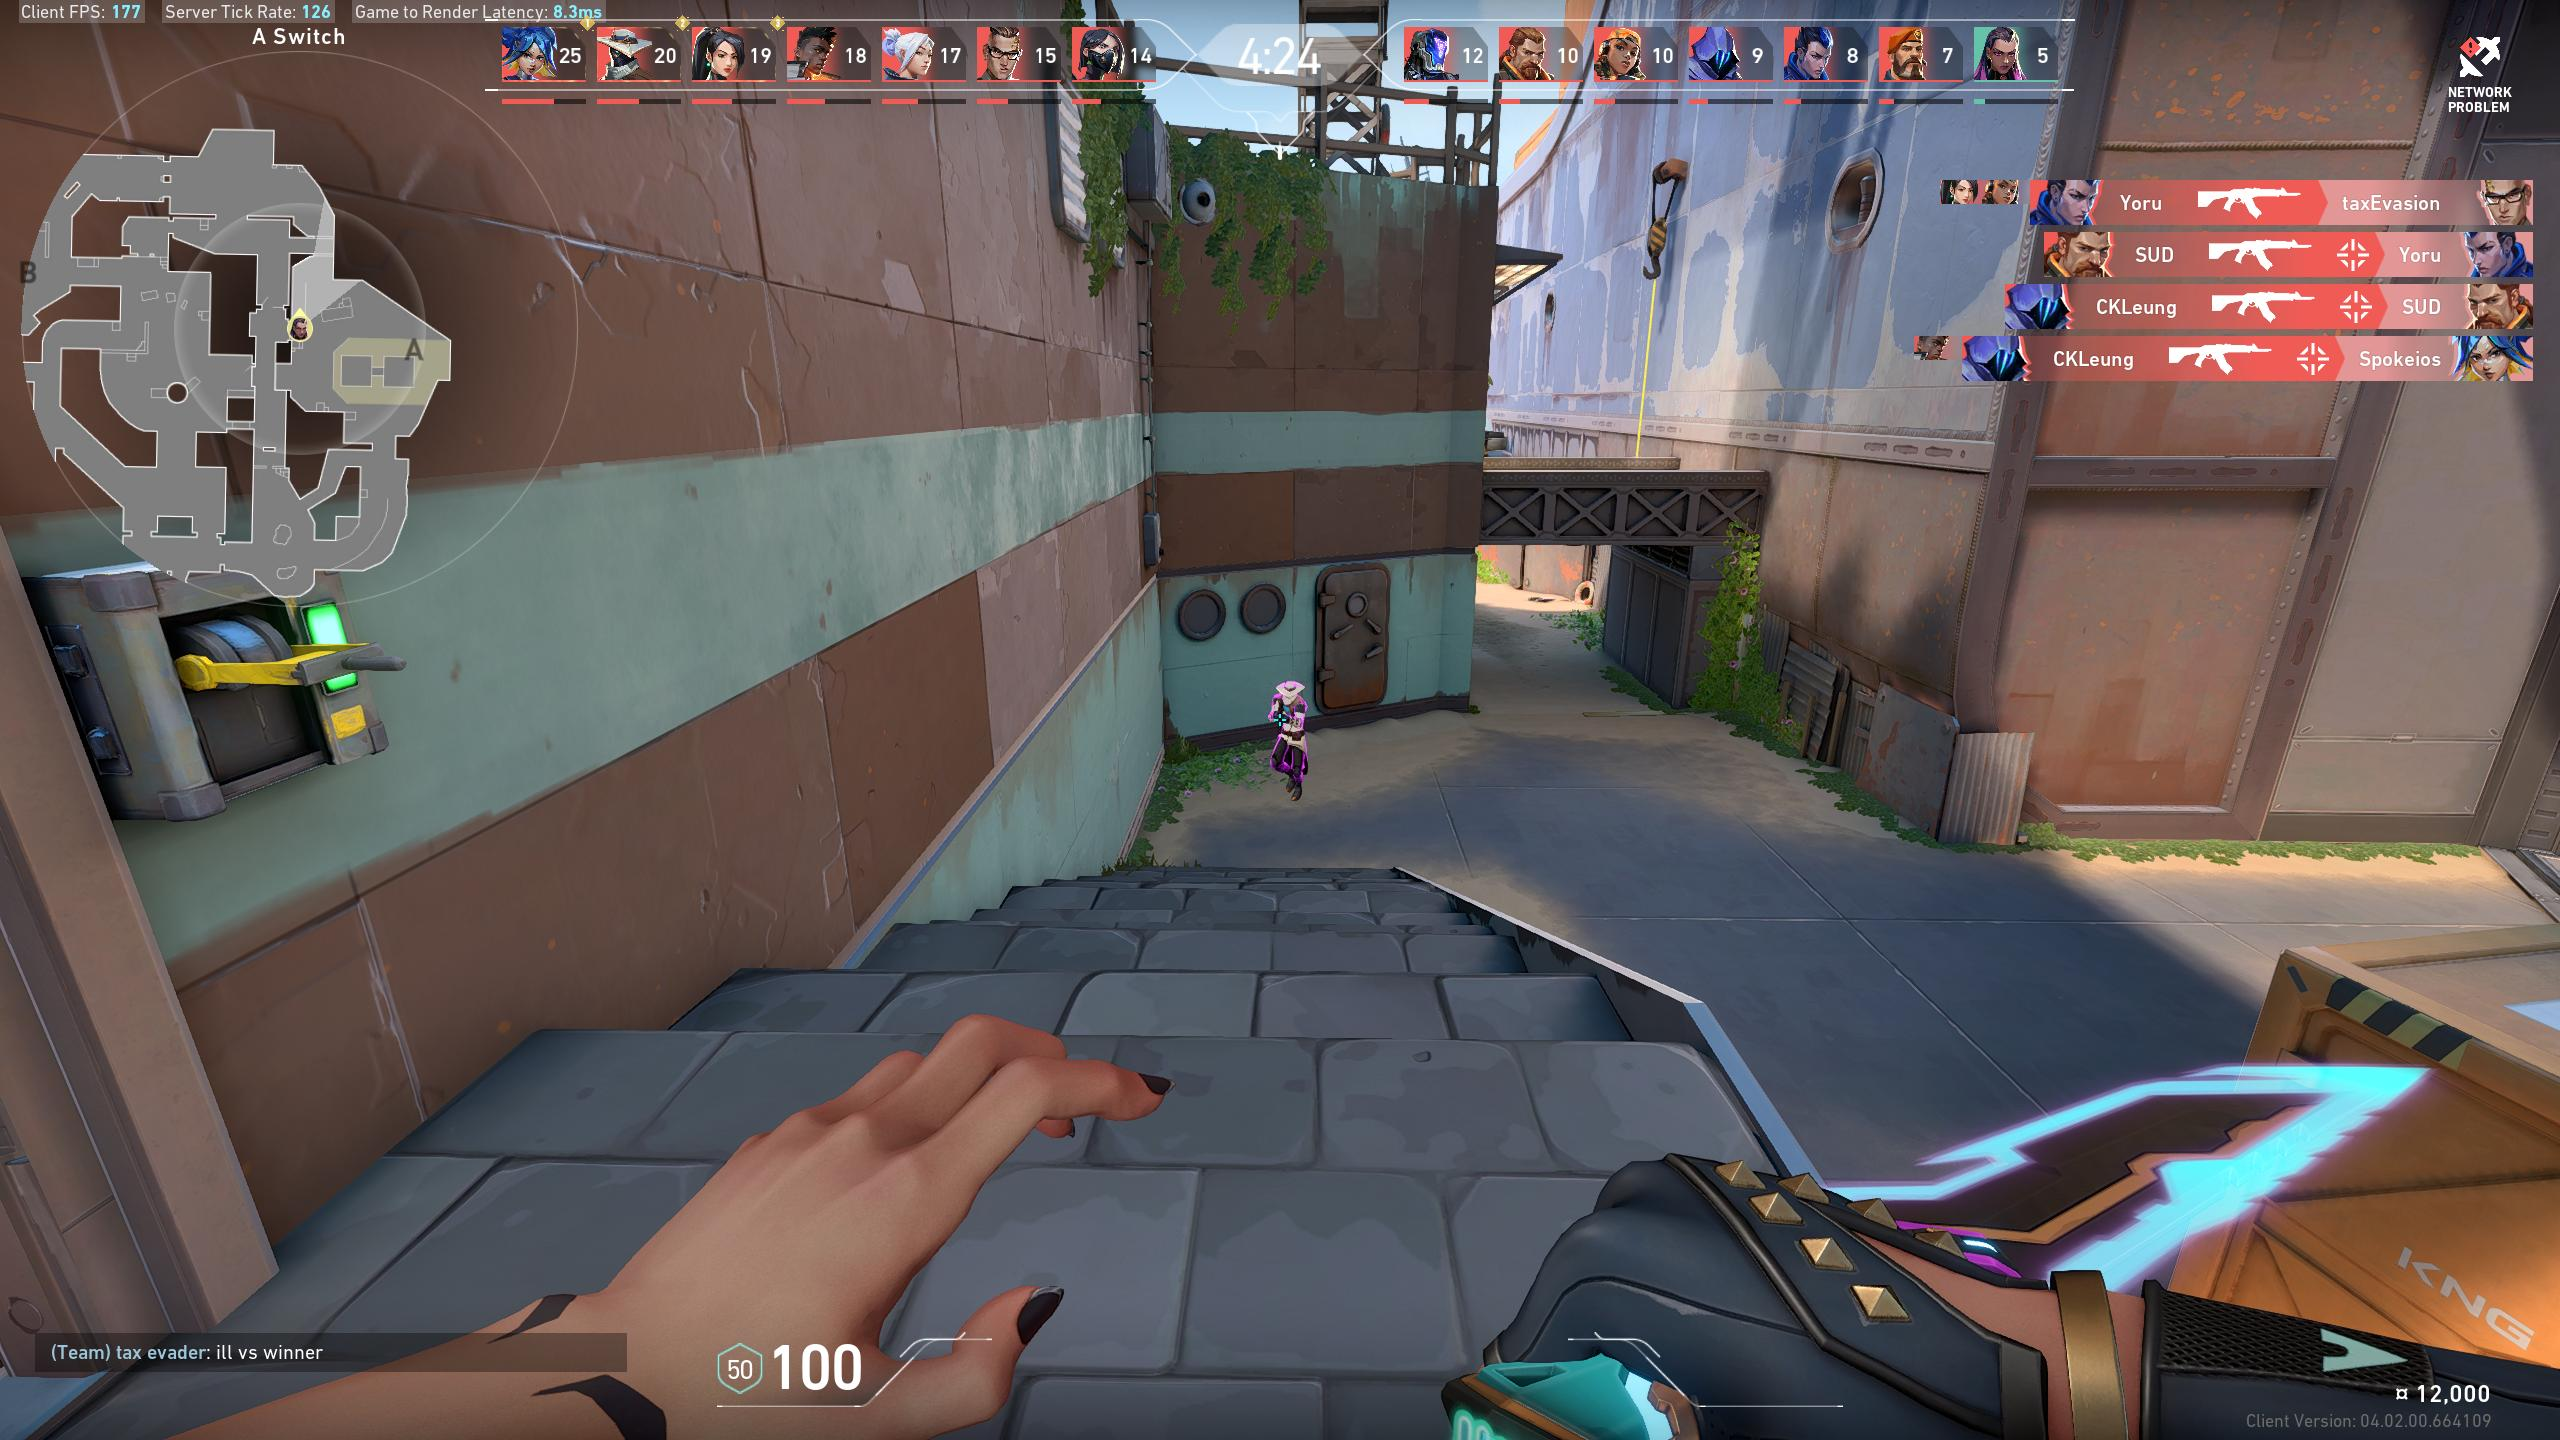enemyBody: (1282, 703, 1303, 737)
enemyHead: (1284, 682, 1298, 702)
